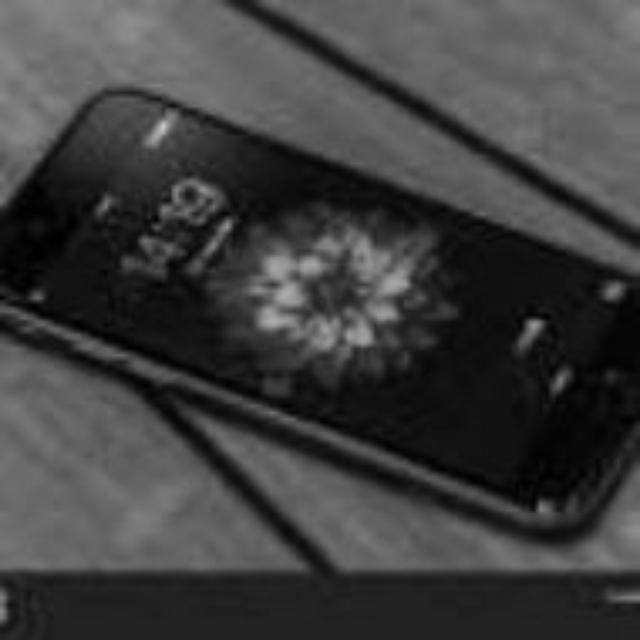fake: (8, 4, 626, 594)
